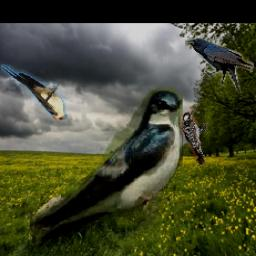Crow: (185, 38, 254, 93)
Swallow: (30, 88, 183, 243), (1, 64, 68, 120)
Woodpecker: (180, 107, 212, 165)
